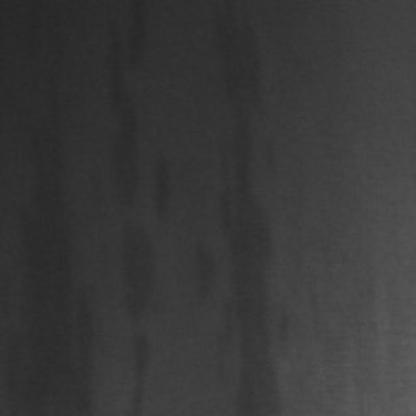inclusion: (210, 0, 286, 410), (6, 98, 81, 410), (108, 0, 162, 331), (123, 324, 160, 414)
